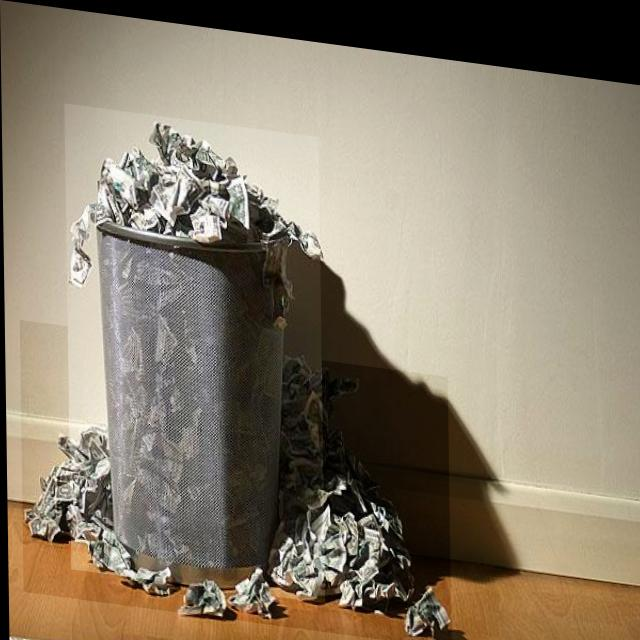garbage: (19, 320, 450, 636)
overflow: (64, 102, 324, 594)
